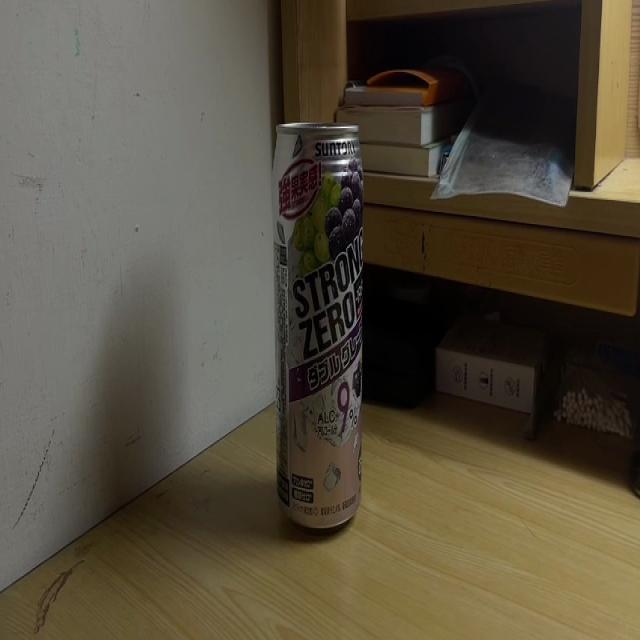Liquor: (272, 119, 363, 534)
